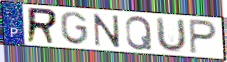G: (59, 11, 90, 47)
N: (93, 13, 122, 49)
P: (188, 18, 219, 56)
Q: (124, 15, 154, 51)
R: (25, 6, 59, 46)
U: (156, 16, 188, 54)
